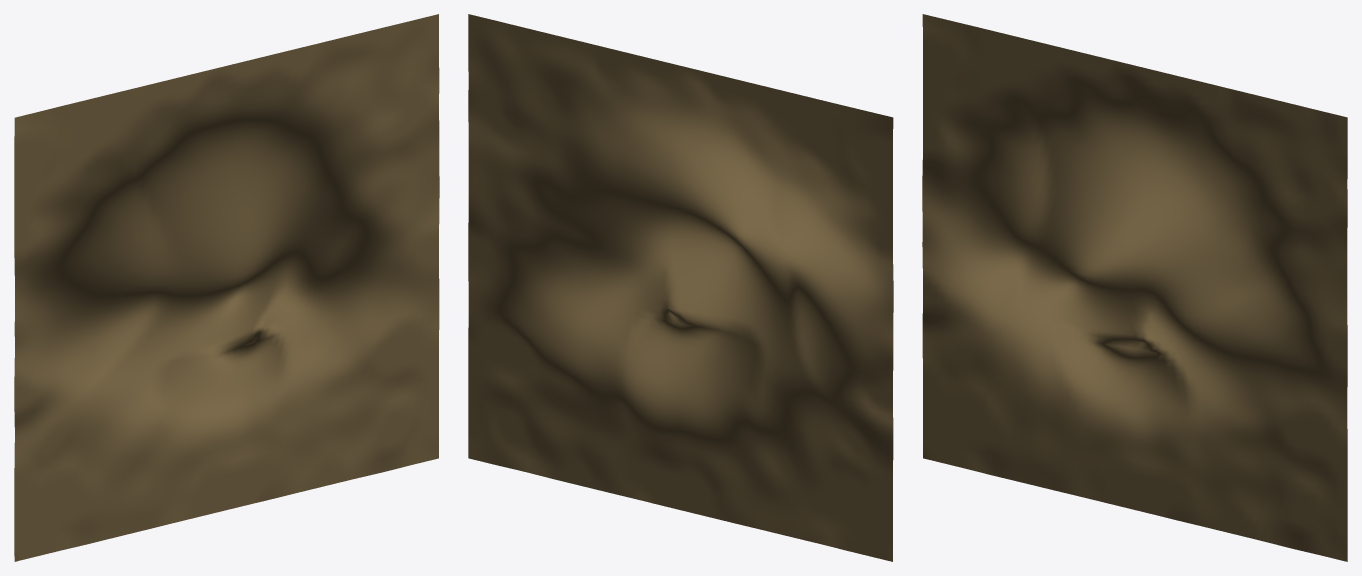
Rendered from mountain_mesh.obj.
3 renders of one model, left to right at view 1: azimuth 30°, elevation 25°; view 2: azimuth 150°, elevation 25°; view 3: azimuth 330°, elevation 25°, orthographic.
Bounding box in the file's own units: 400 × 400 × 56.73.
